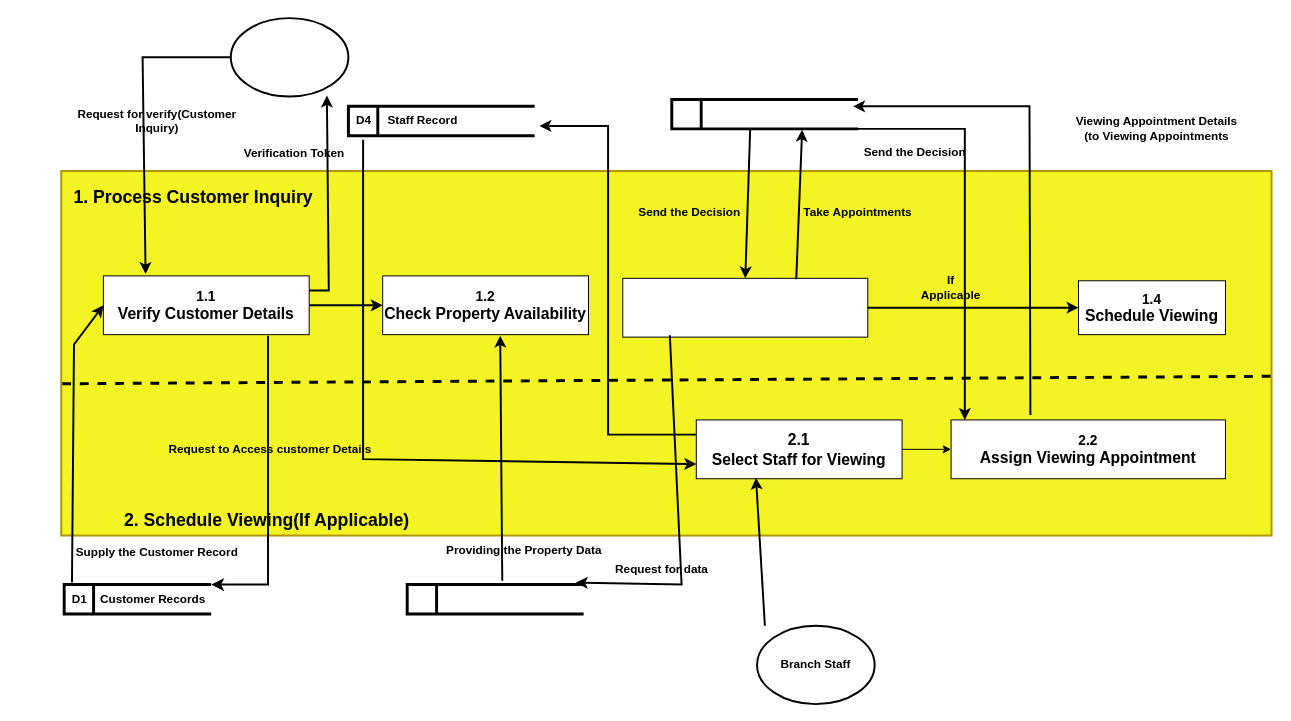
The diagram is 1291 pixels wide and 721 high, and some of its shapes have lost their labels. Here are the shapes that lost their labels. From the top down, the box of each, then its label:
(229, 17, 349, 97): Customers
(670, 98, 859, 130): D3 Viewing Appointments
(622, 277, 868, 337): 1.3 Determine Viewing Suitability
(405, 583, 585, 615): D2 Property Records
